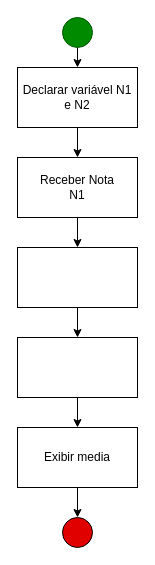
Some shapes in this 155 by 565 pixel diagram are drawn without their labels. The centre of each missing label's shape, as x and y in pixels:
Calcular média media = (N1+N2)/2: pixel 77 367
Receber Nota N2: pixel 77 277
